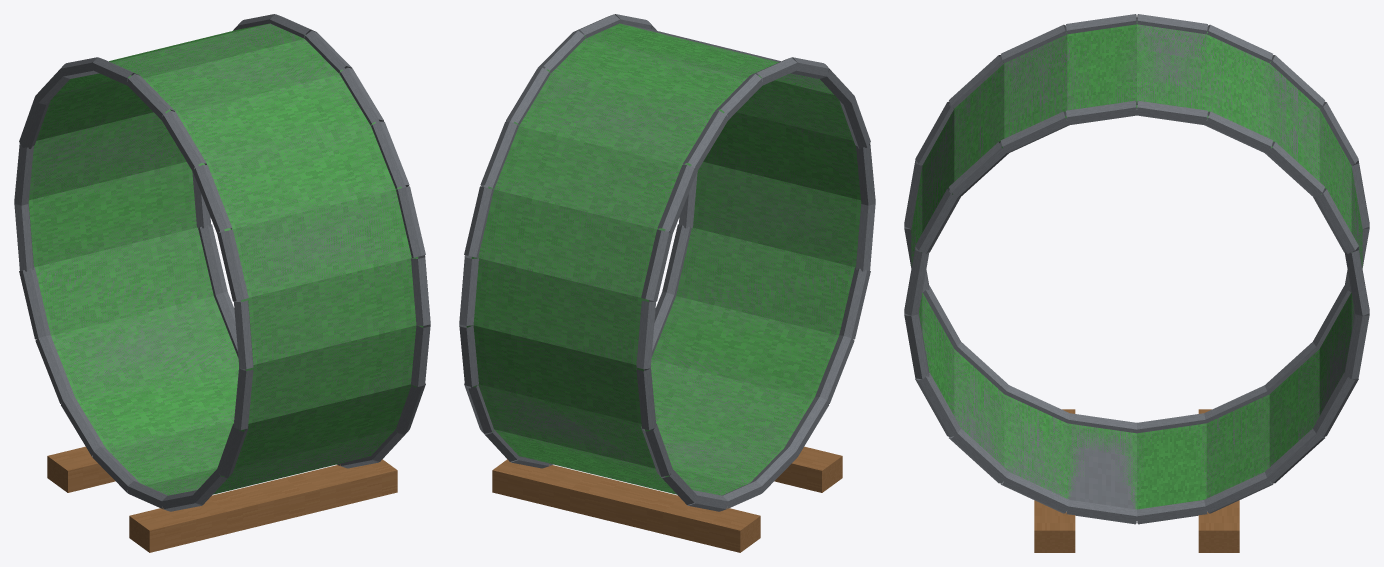
Rendered from loop.obj.
3 renders of one model, left to right at view 1: azimuth 30°, elevation 25°; view 2: azimuth 150°, elevation 25°; view 3: azimuth 270°, elevation 25°, orthographic.
Parts seen in each view (by area): view 1: loop; view 2: loop; view 3: loop.
Boxes of the visible parts, x1=… form: loop: x1=14, y1=14, x2=430, y2=552; loop: x1=459, y1=14, x2=875, y2=552; loop: x1=904, y1=14, x2=1369, y2=552.
Size of the model in its own units: 0.875 by 1.46 by 1.42.
